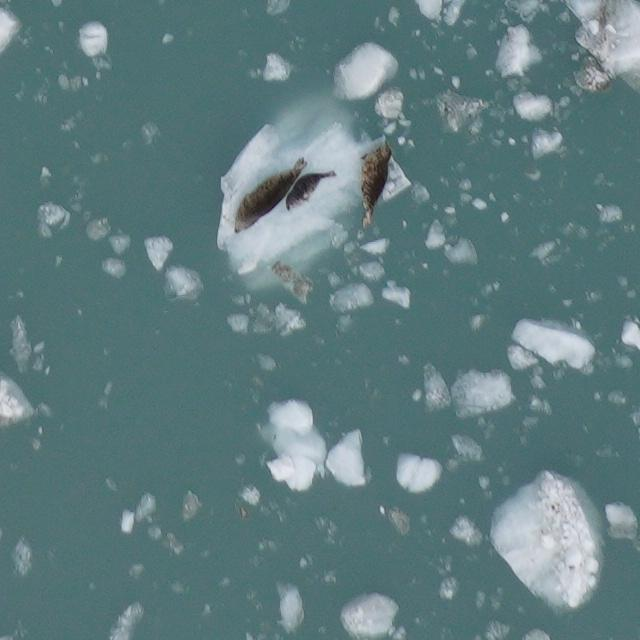seal: (230, 154, 313, 240), (356, 138, 395, 231), (281, 167, 343, 217)
